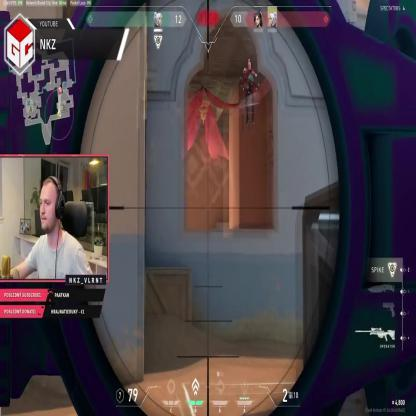enemy: (240, 58, 258, 125)
enemy_head: (246, 58, 252, 70)
